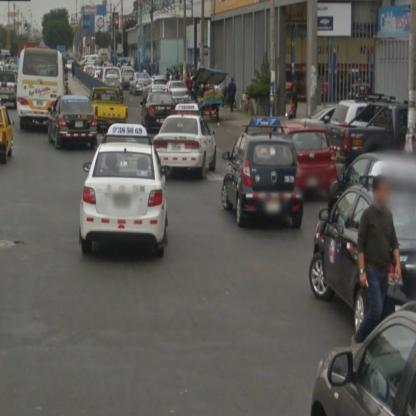Vehiculo: (80, 125, 174, 259), (223, 117, 305, 230), (151, 105, 218, 180), (47, 95, 97, 152)
